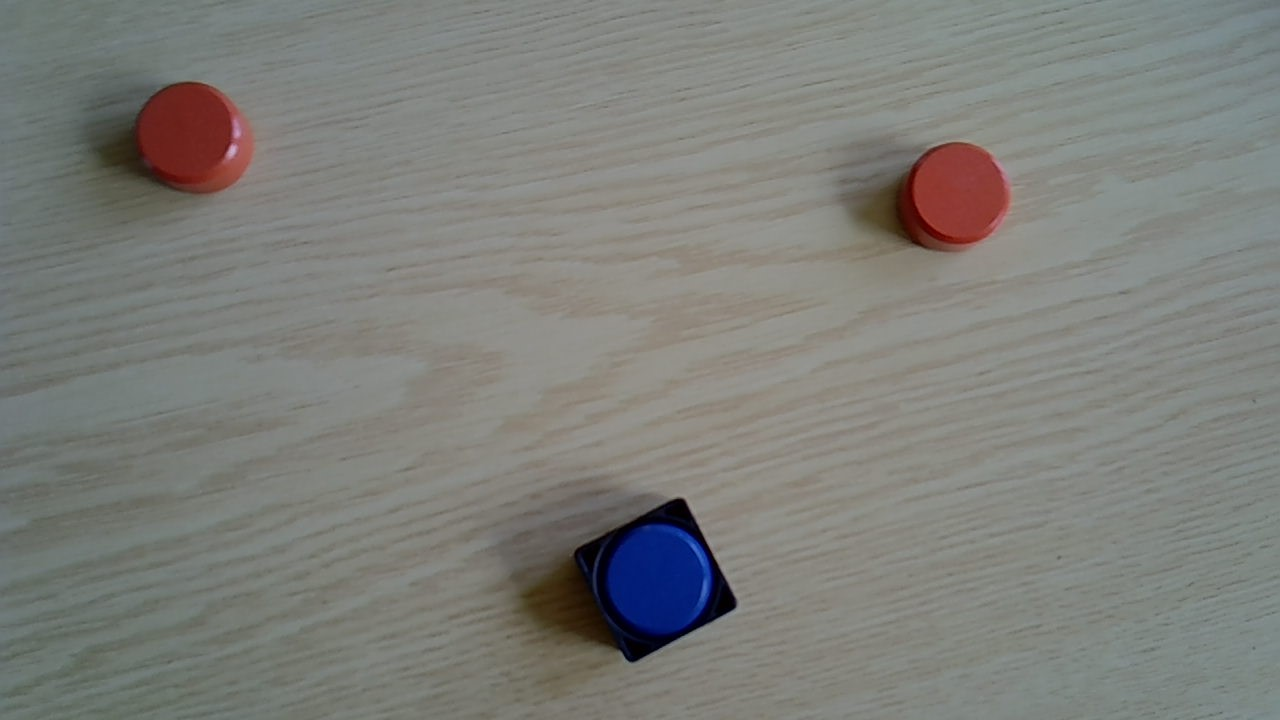Behaelter: (567, 495, 743, 666)
WerkStueck: (133, 82, 254, 196), (896, 140, 1012, 254), (603, 523, 714, 637)
